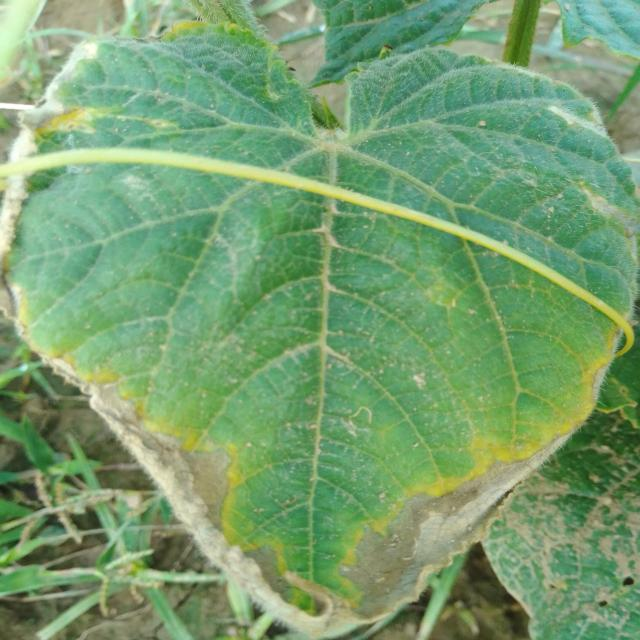cucumber_gummy: (0, 22, 640, 640), (452, 395, 640, 640)
